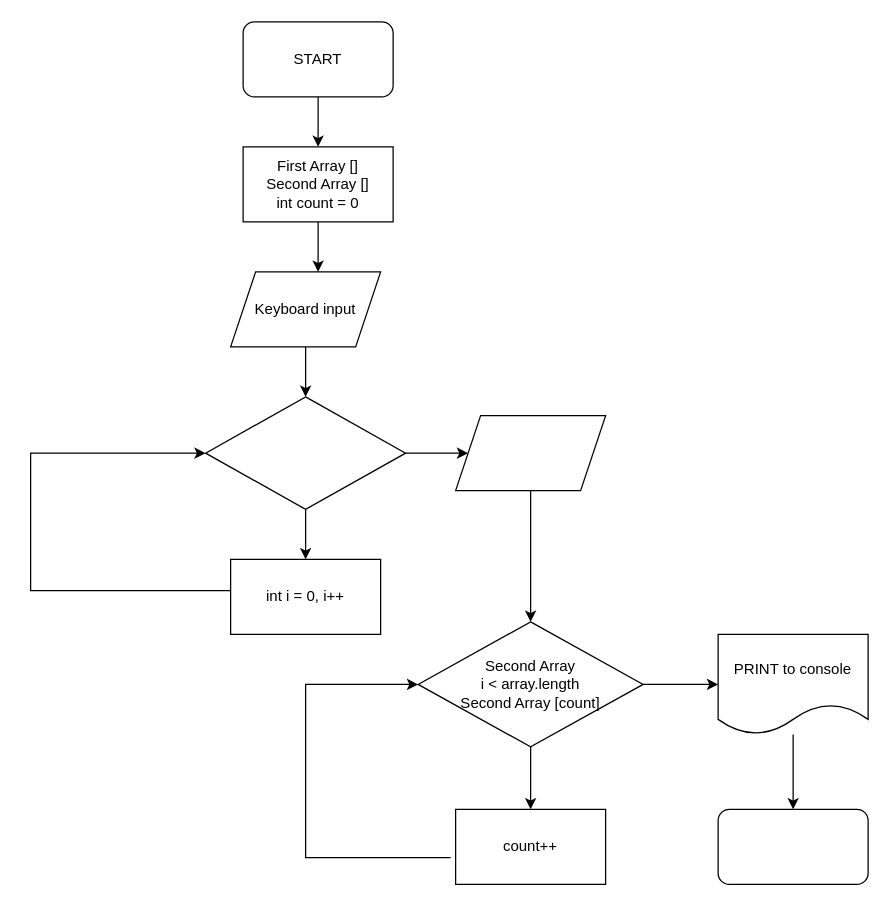
Some shapes in this 890 by 906 pixel diagram are drawn without their labels. The shapes that lost their labels are listed below. From the top down, each one's centre as x and y in pixels, then its label:
At (x=305, y=452): "First Array i < array.length".
At (x=530, y=452): "ModArray".
At (x=792, y=846): "END".
